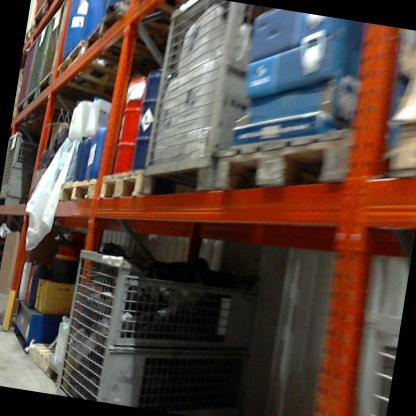pallet: (207, 105, 368, 216), (78, 0, 212, 92), (49, 30, 164, 110), (95, 158, 220, 221), (380, 102, 416, 190), (49, 167, 95, 213), (27, 339, 58, 380), (129, 0, 204, 16), (0, 309, 18, 333)
stillage: (56, 242, 284, 416), (140, 0, 309, 219), (341, 301, 401, 416), (0, 125, 46, 218), (36, 0, 76, 102), (24, 14, 52, 113), (13, 35, 38, 123), (28, 0, 46, 28), (44, 0, 62, 10)
